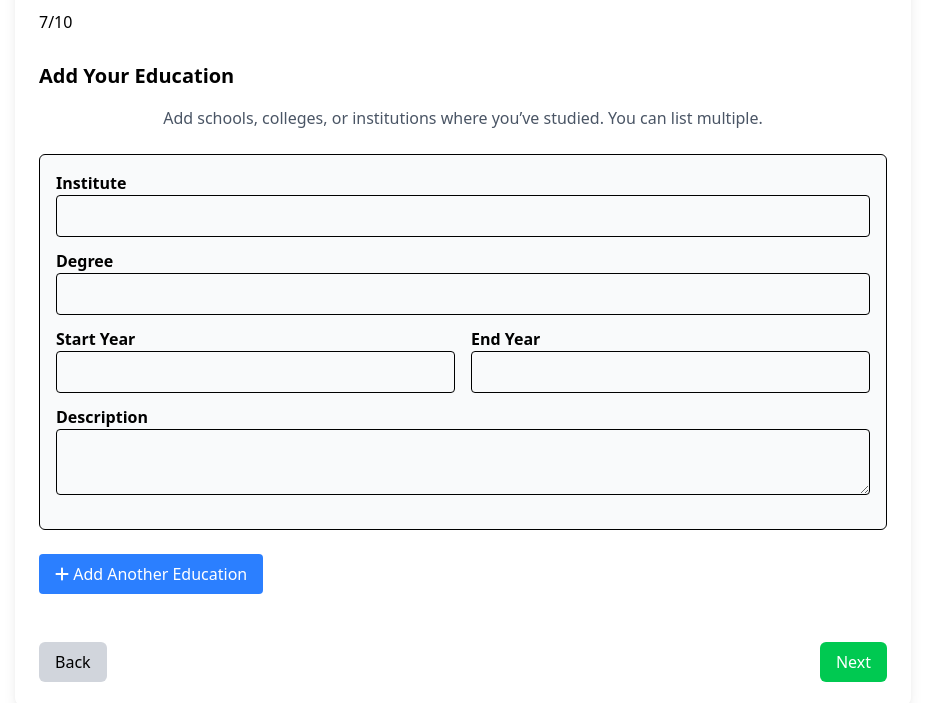
Test: Step11_Education Component › adds another education entry when "+ Add Another Education" is clicked
The image size is (927, 703).
Click the button "Add Another Education" at (151, 574), box [39,554,263,594]
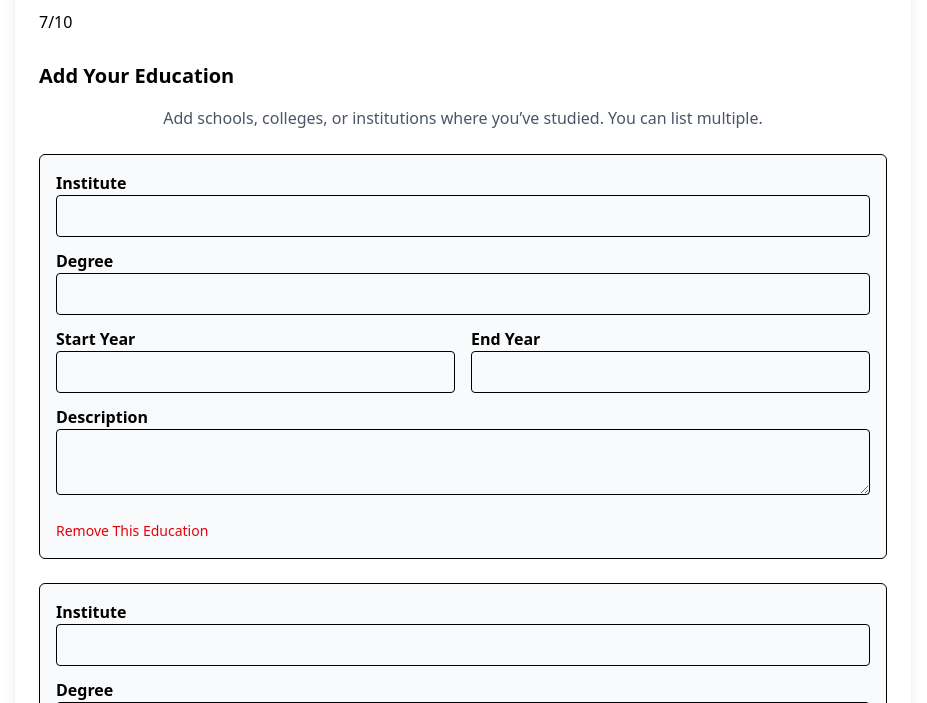
Check: the number of fields labelled "Institute" is 2, box [56,195,870,237]; [56,624,870,666]
